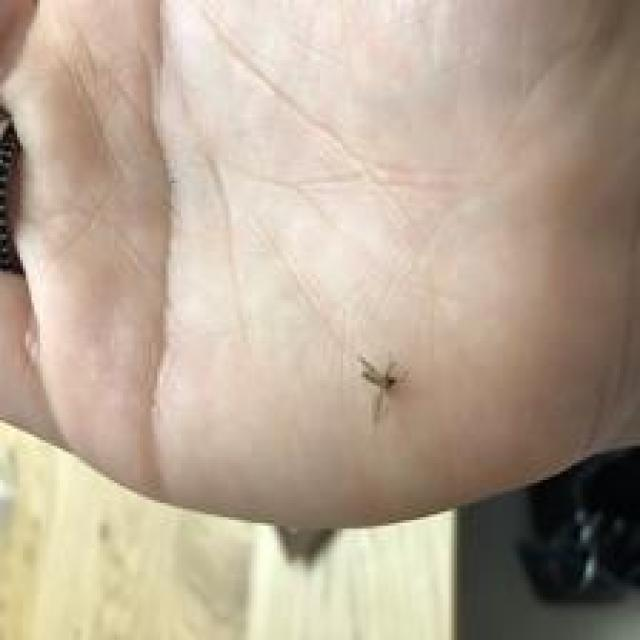Culex: (517, 443, 640, 606)
